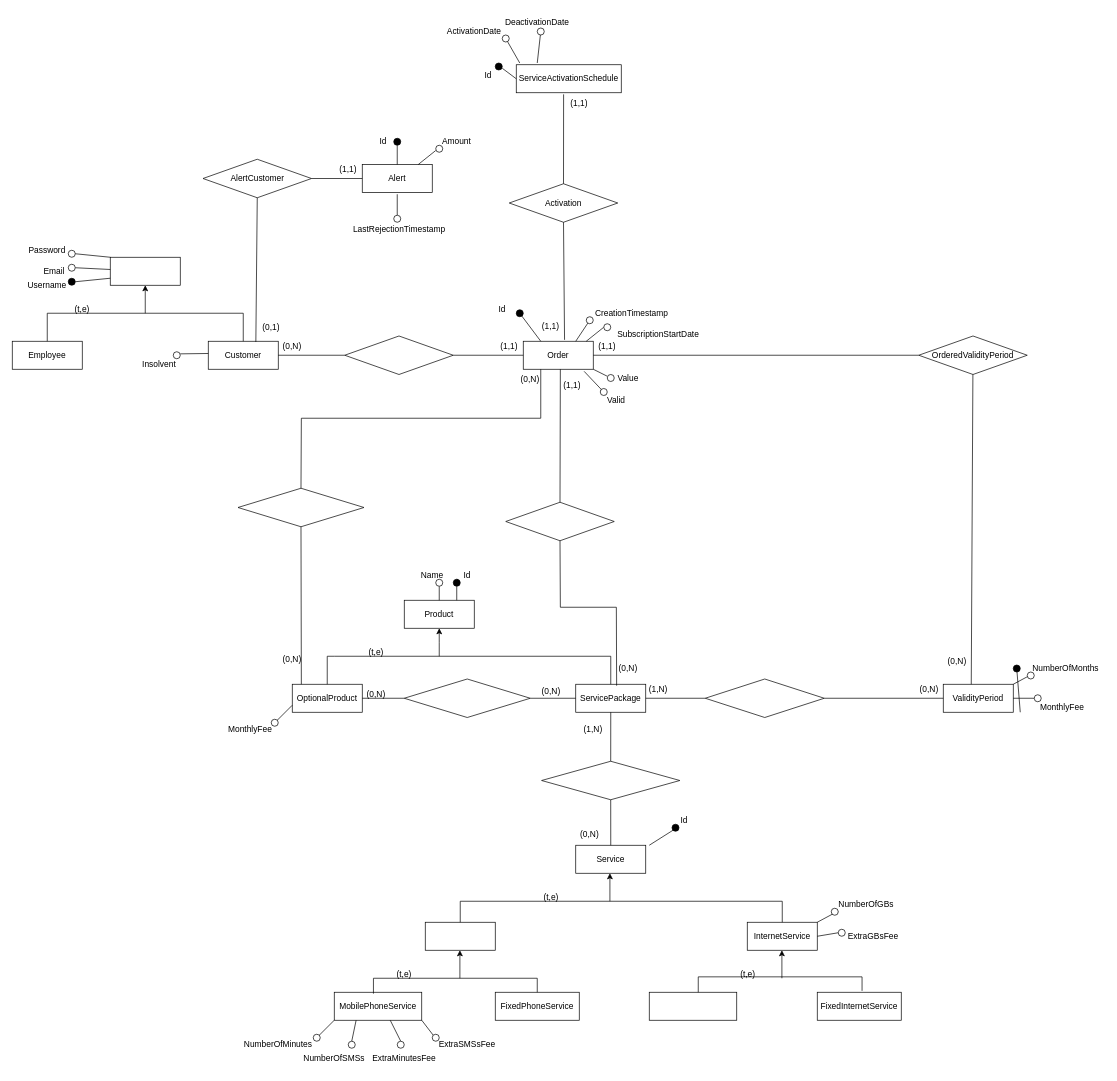
The diagram is 1117 pixels wide and 1081 high, and some of its shapes have lost their labels. The shapes that lost their labels are listed below. From the top down, each one's centre as x and y in pixels, then its label:
At (x=145, y=271): "User".
At (x=398, y=354): "Purchase".
At (x=300, y=507): "OrderedOptionalProducts".
At (x=559, y=521): "OrderedServicePackage".
At (x=467, y=698): "OptionalProductsAvaliabitity".
At (x=764, y=698): "ValidityPeriodAvaliabitity".
At (x=610, y=780): "ServicePackageComposition".
At (x=460, y=936): "PhoneService".
At (x=693, y=1006): "MobileInternetService".
